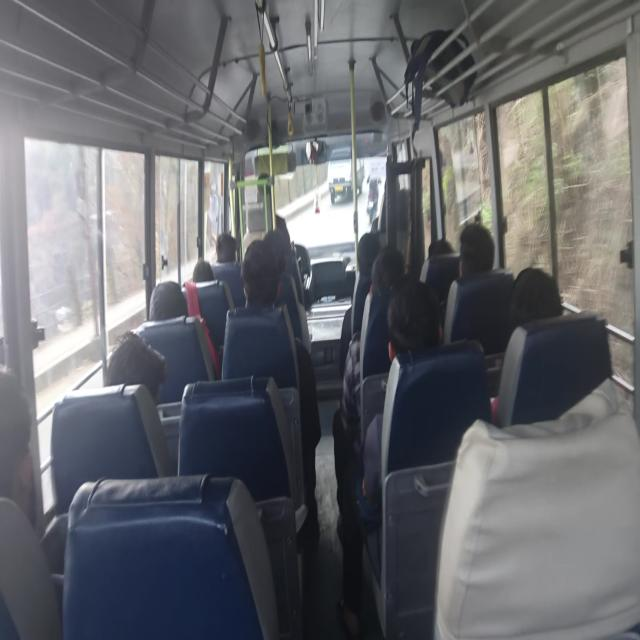person: (1, 330, 45, 551), (104, 322, 185, 416), (508, 259, 566, 353), (382, 284, 449, 364), (238, 237, 287, 314), (143, 274, 189, 346), (454, 218, 504, 283), (371, 244, 410, 293), (347, 227, 387, 274), (189, 253, 227, 295), (266, 232, 296, 280), (211, 230, 240, 274), (427, 236, 456, 270), (379, 172, 403, 205), (252, 172, 274, 206)
